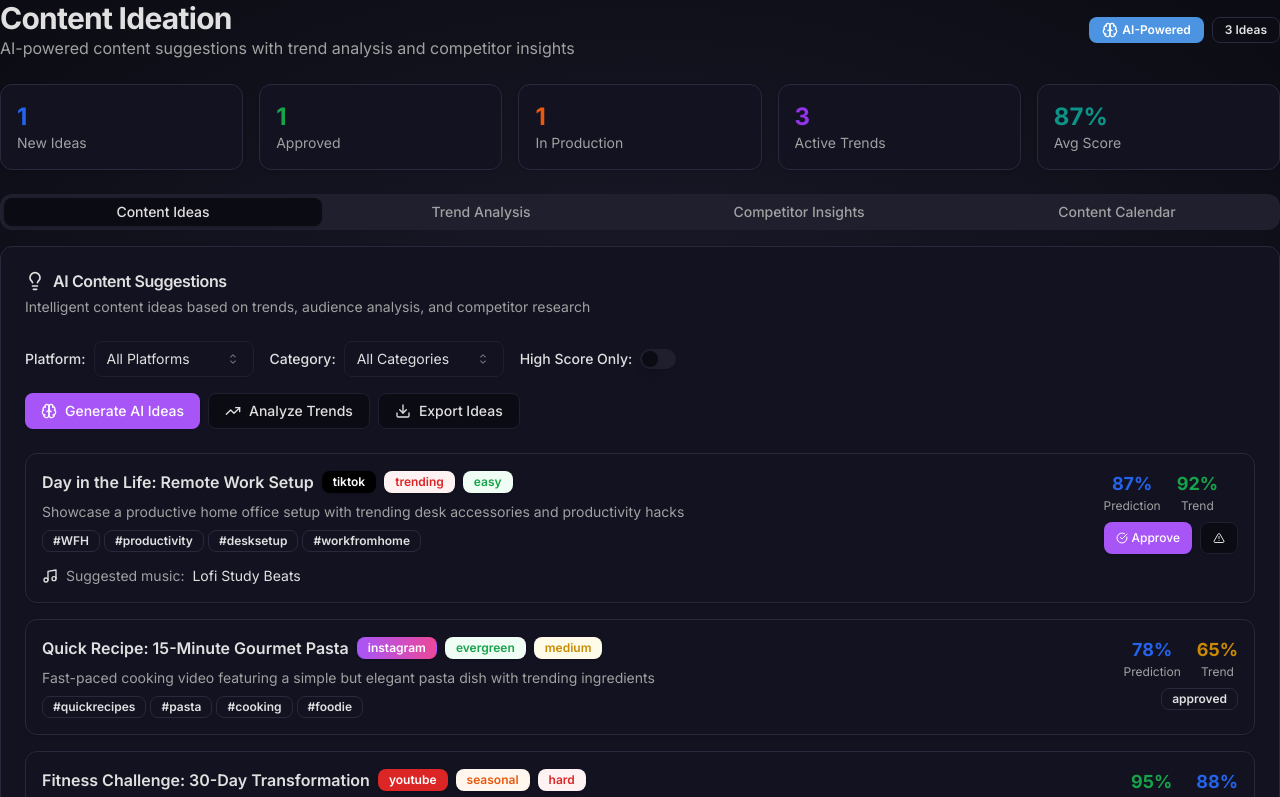
Test: ContentIdeationModule › shows competitor performance metrics
The width and height of the screenshot is (1280, 797).
What coordinates should you click on to do the following:
click the tab "Competitor Insights"
I would click on:
 (799, 212)
Its box is [640, 198, 958, 226].
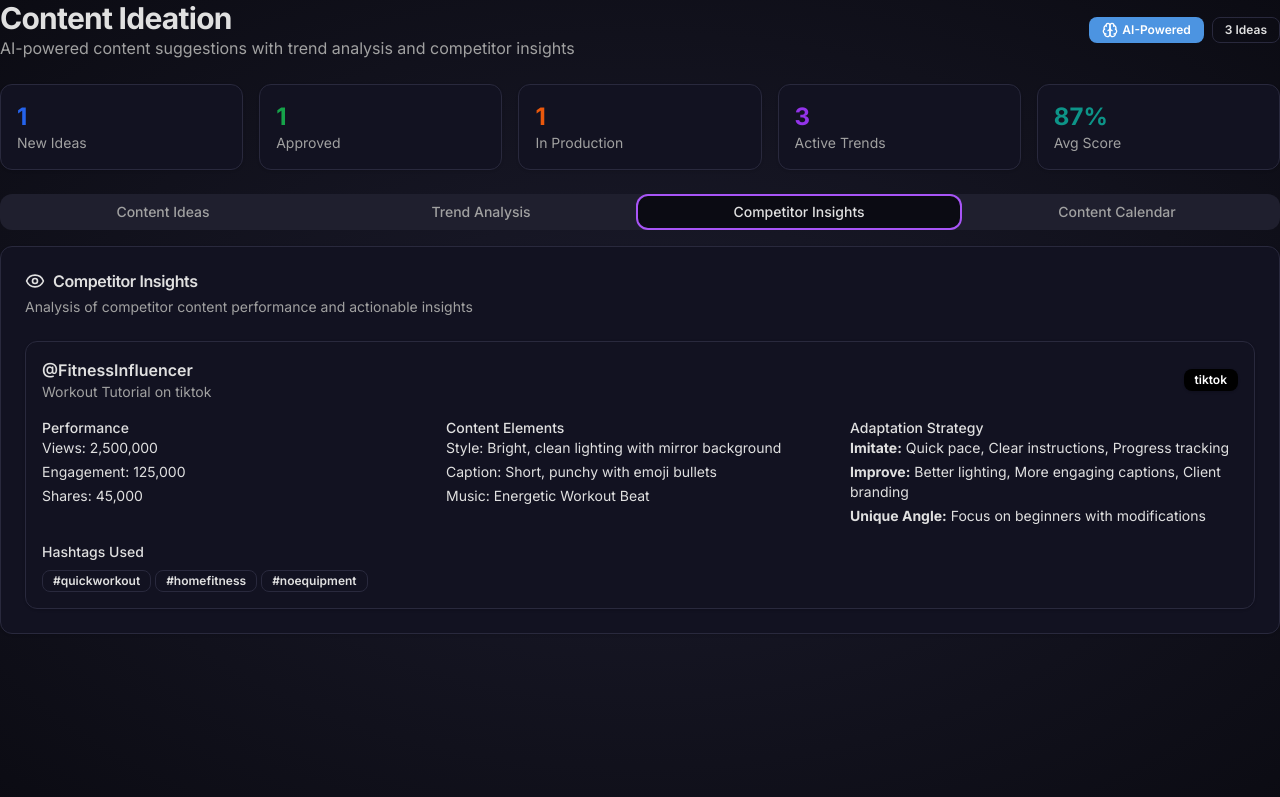
Expected: the text "Performance" is shown, [42, 419, 129, 436]
Expected: the text "Content Elements" is shown, [446, 419, 564, 436]
Expected: the text "Adaptation Strategy" is shown, [850, 419, 984, 436]
